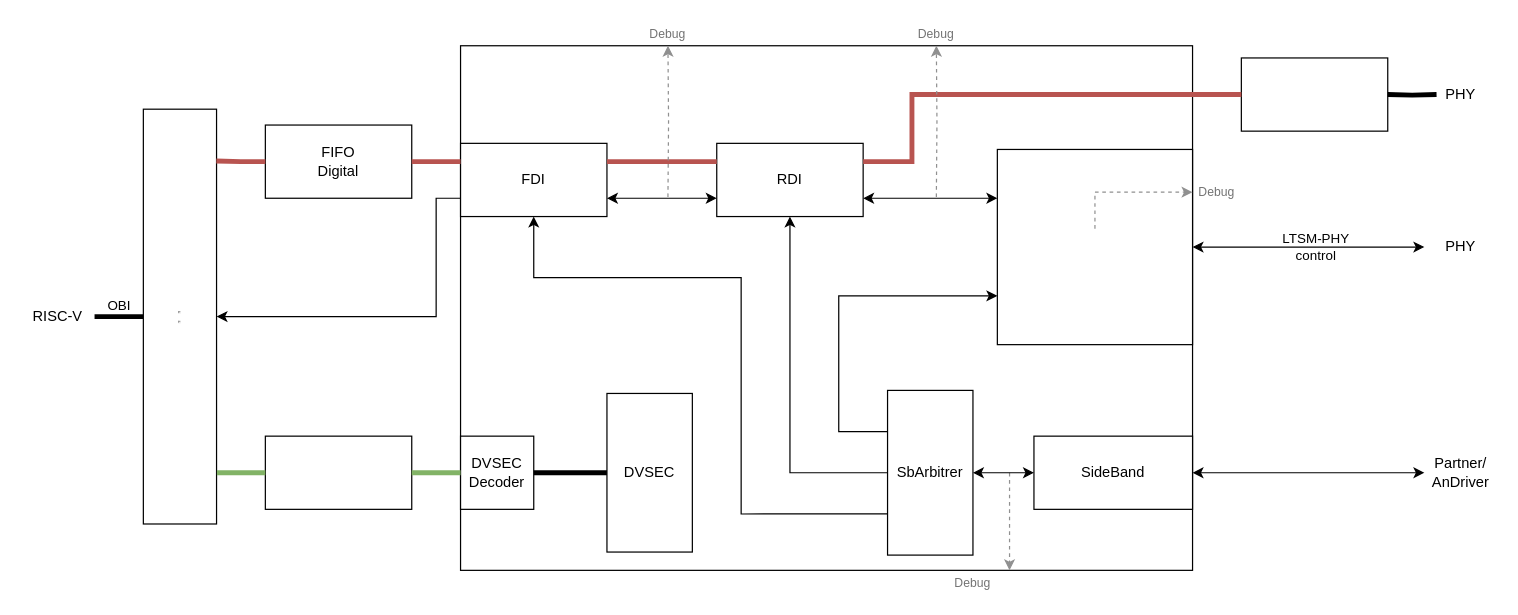
Image size: 1518x615. Some labels were removed from this diagram. The shapes that lost their labels are listed below. From the top down, each one's box as (x1, y1, x2, y2) in pixels, then its label:
(1240, 57, 1388, 131): FIFO Analog
(996, 148, 1193, 345): LTSM
(264, 435, 412, 509): FIFO DVSEC
